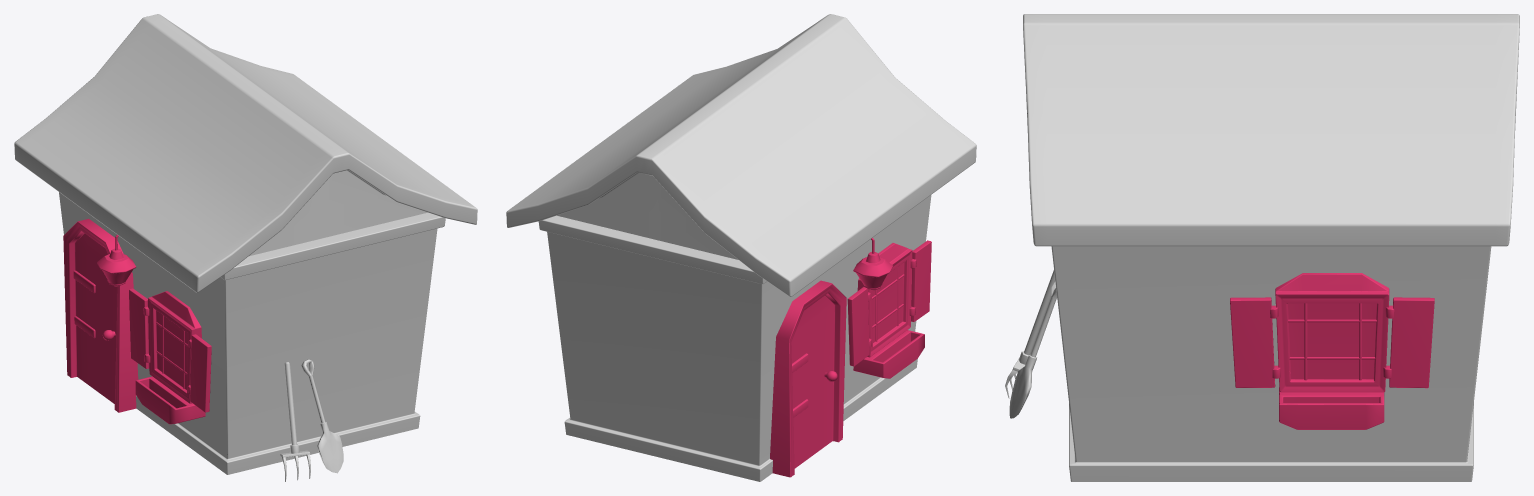
The model's file is GardenShed.fbx.
The picture shows the model from 3 angles, left to right: view 1: azimuth 30°, elevation 25°; view 2: azimuth 150°, elevation 25°; view 3: azimuth 270°, elevation 25°; orthographic projection. The views are drawn at different scales.
Parts seen in each view (by area): view 1: house.001; view 2: house.001; view 3: house.001.
Part boxes in pixels (left/top/right/bottom): house.001: left=14, top=14, right=477, bottom=481; house.001: left=506, top=14, right=976, bottom=481; house.001: left=1005, top=14, right=1519, bottom=481.
Bounding box in the file's own units: 501 × 524 × 602.
